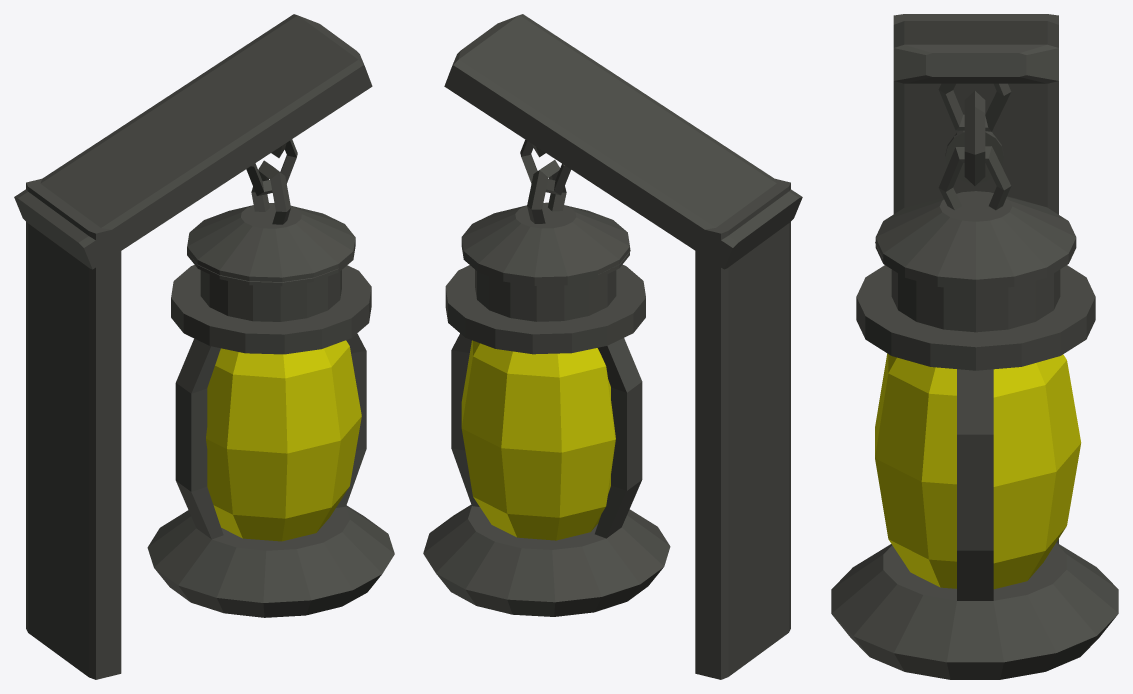
Rendered from lantern.fbx.
3 views of the same model, side by side, from view 1: azimuth 30°, elevation 25°; view 2: azimuth 150°, elevation 25°; view 3: azimuth 270°, elevation 25° (orthographic). The views are drawn at different scales.
Parts seen in each view (by area): view 1: Cube, Cube.001, Cylinder, Sphere, Cylinder.005, Cylinder.004, Cylinder.003; view 2: Cube, Cube.001, Cylinder, Sphere, Cylinder.005, Cylinder.004, Cylinder.003; view 3: Cylinder, Sphere, Cube, Cylinder.005, Cylinder.004, Cube.001, Cylinder.003, Cylinder.001.
Part boxes in pixels (x1,y1,x2,y2): Cube: (26,178,121,679); Cube.001: (14,14,372,269); Cylinder: (147,139,394,617); Sphere: (206,340,361,541); Cylinder.005: (187,203,355,286); Cylinder.004: (171,265,371,354); Cylinder.003: (200,270,341,321); Cube: (695,178,790,679); Cube.001: (444,14,802,269); Cylinder: (423,140,670,616); Sphere: (461,340,615,540); Cylinder.005: (461,202,629,285); Cylinder.004: (445,264,645,354); Cylinder.003: (475,270,616,321); Cylinder: (831,83,1118,679); Sphere: (875,353,1081,589); Cube: (893,14,1058,543); Cylinder.005: (875,191,1076,289); Cylinder.004: (856,265,1095,370); Cube.001: (893,21,1058,83); Cylinder.003: (891,269,1060,332); Cylinder.001: (945,130,1003,182).
Size of the model in its own units: 624 by 1004 by 401.
